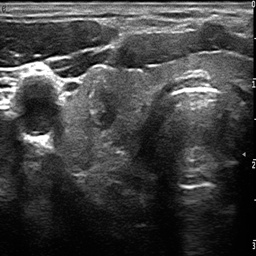mass: (89, 78, 116, 124)
